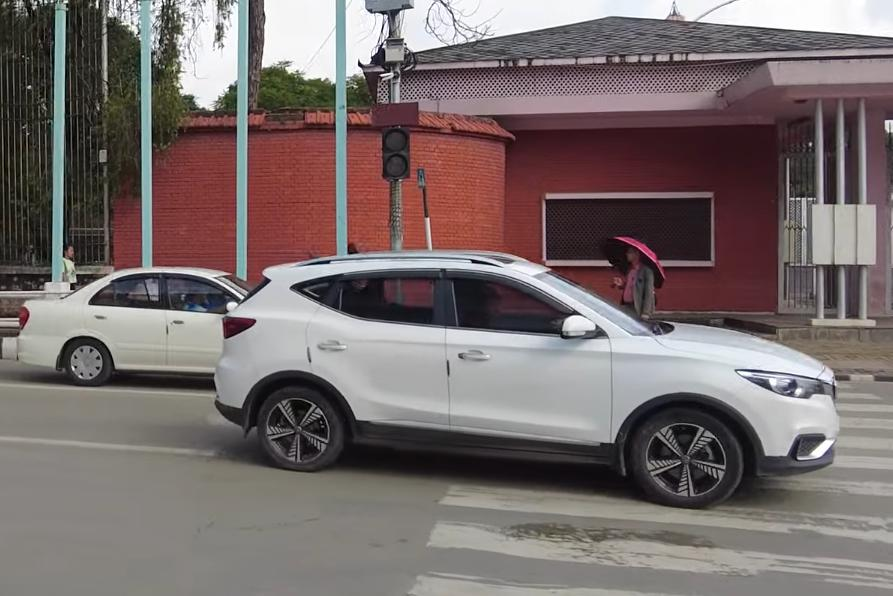car: (215, 245, 843, 522), (16, 265, 271, 390)
